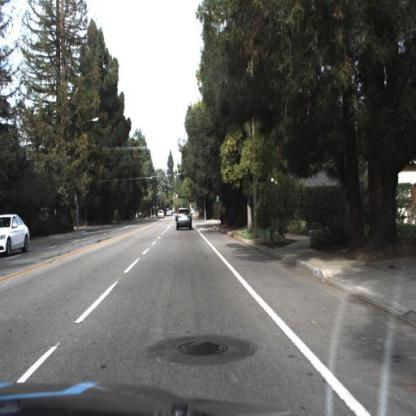car: (1, 213, 30, 257), (174, 207, 194, 234)
pedestrian: (218, 199, 229, 230)
